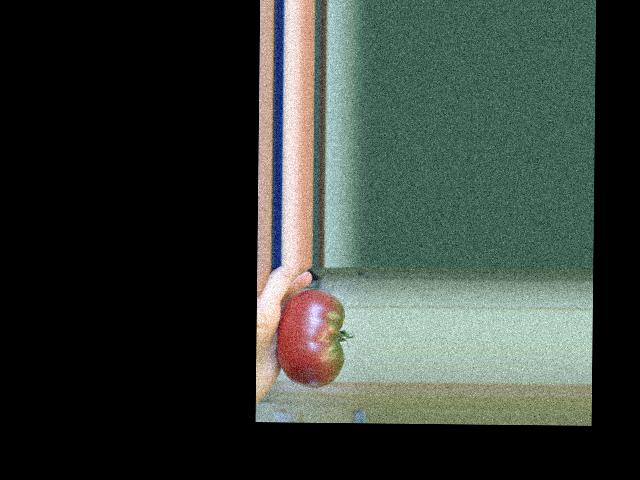tomato: (276, 289, 345, 388)
